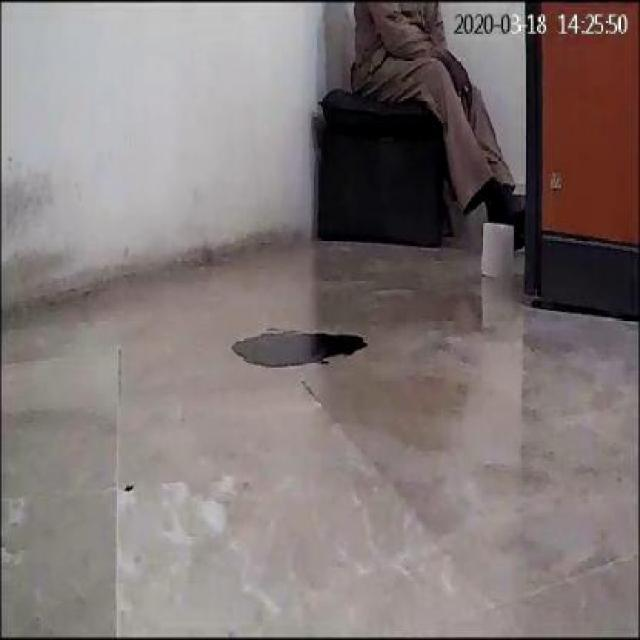spill: (232, 322, 366, 372)
